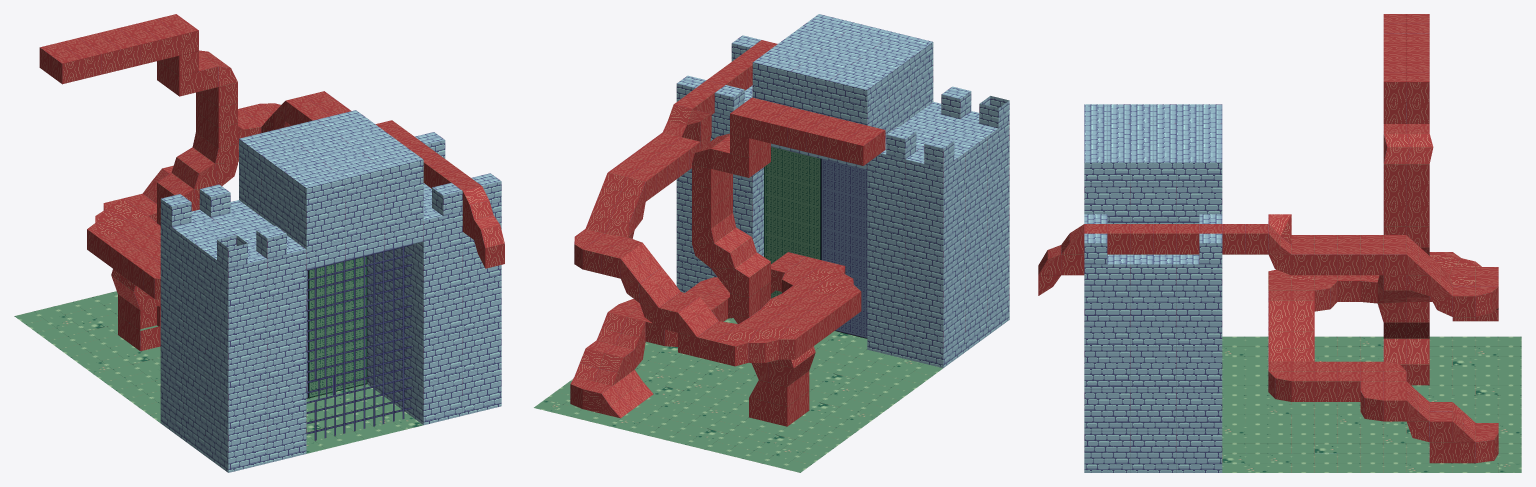
Rendered from KingdomEntrance.dae.
3 views of the same model, side by side, from view 1: azimuth 30°, elevation 25°; view 2: azimuth 150°, elevation 25°; view 3: azimuth 270°, elevation 25° (orthographic). The views are drawn at different scales.
Visible parts, largest first — view 1: Map; view 2: Map; view 3: Map.
Part boxes in pixels (box(x1,y1,x2,y2)): Map: box(14, 14, 504, 472); Map: box(534, 14, 1009, 472); Map: box(1038, 14, 1521, 472).
Bounding box in the file's own units: 60 × 84 × 60.
2 materials, 2 textured.
